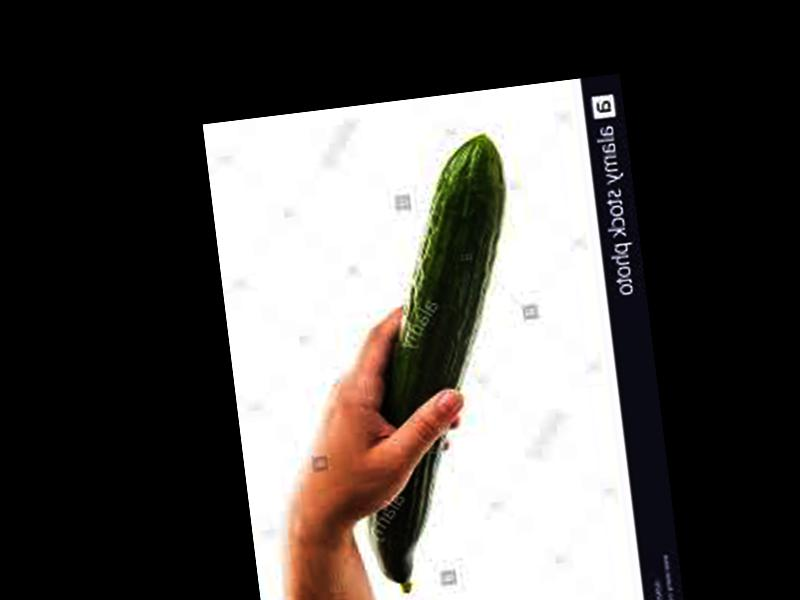Cucumber: (323, 131, 553, 598)
